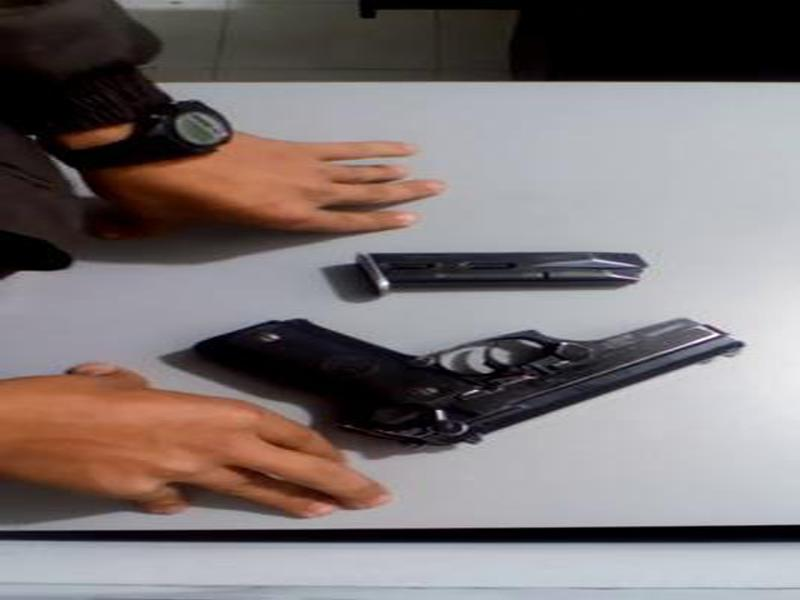Pistola: (180, 306, 761, 458)
